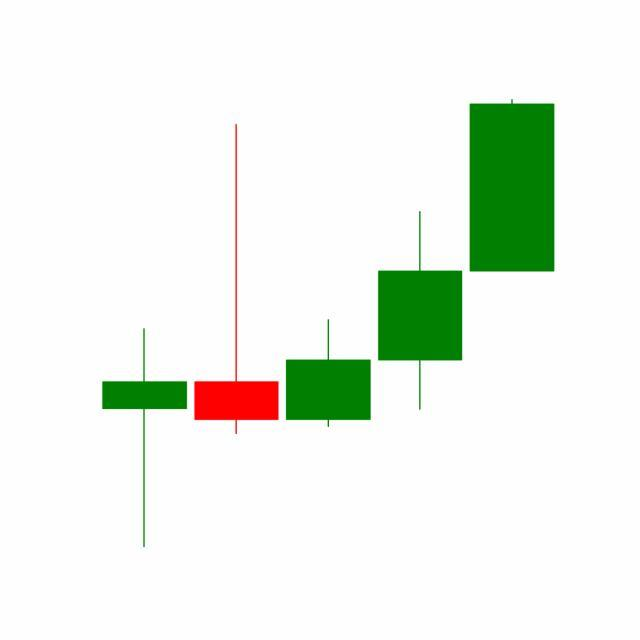Marubozu: (466, 98, 559, 274)
